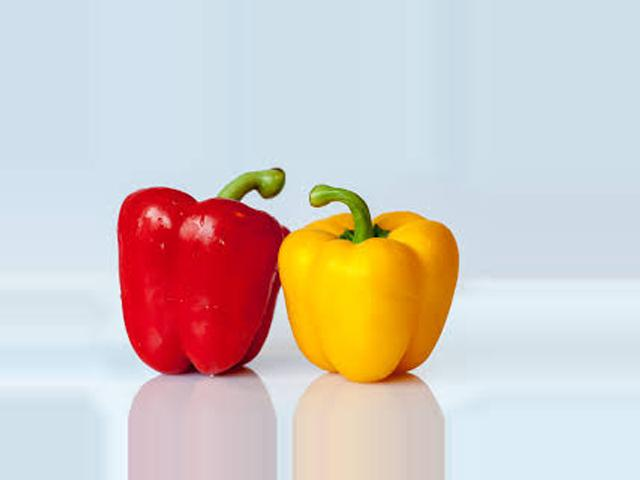bell_pepper: (99, 173, 290, 396)
